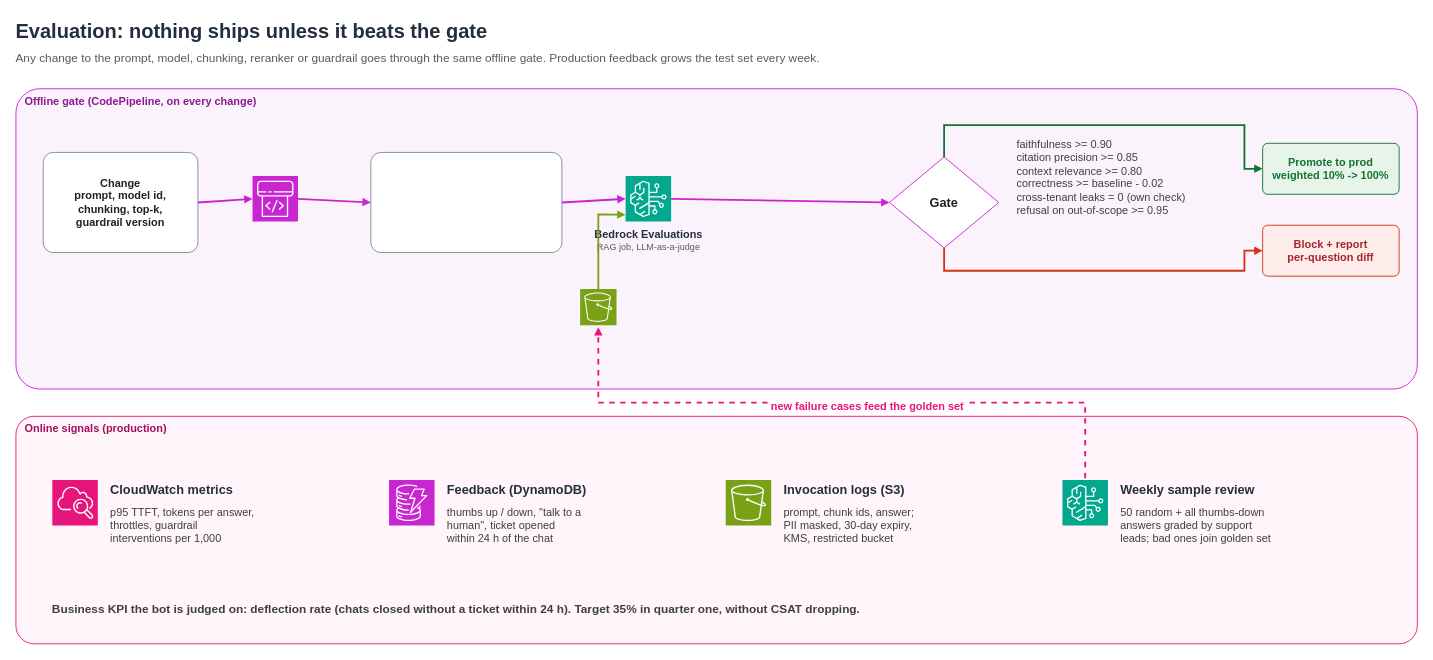
Image size: 1433x660. Some labels were removed from this diagram. Here are the shapes that lost their labels. From the top down, the centre of each, then its label:
(x=275, y=198): CodePipeline
(x=466, y=202): Deploy to a staging KB + orchestrator (same data, new config)
(x=598, y=306): Golden set (S3) 420 questions with reference answers
